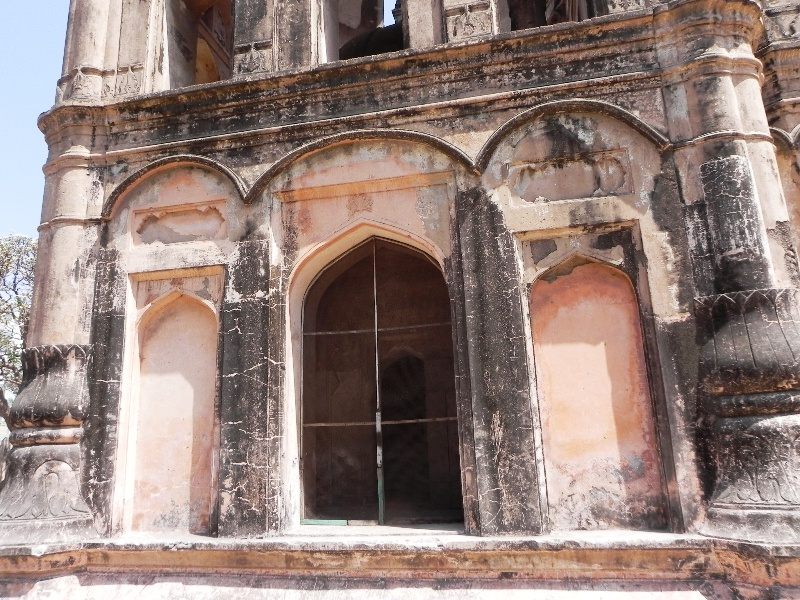Spalling: (524, 233, 561, 260)
